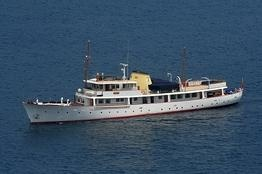otherboat: (20, 63, 246, 124)
